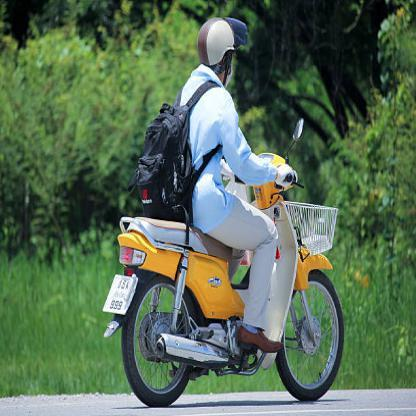Motorcycle: (98, 141, 346, 408)
